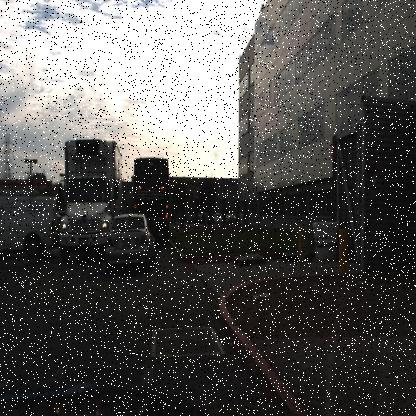car: (0, 190, 58, 260), (102, 209, 151, 274)
truck: (58, 135, 122, 264), (130, 154, 171, 241)
